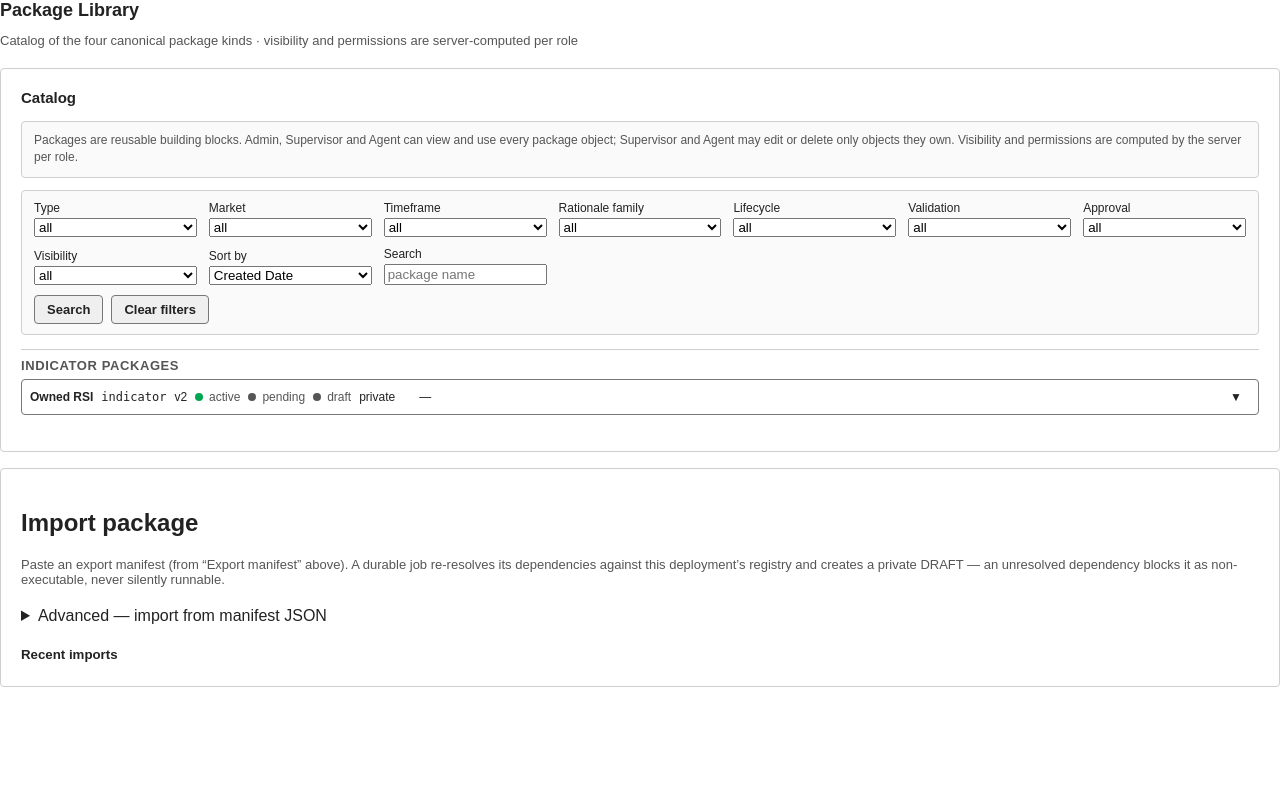
Test case: Package Library — Request Validation (G-04) › offers no action when the server says the package has no validation pipeline
Expected: the text "Owned RSI" is shown, [30,390,93,404]
Click the button named "Detail" at (1236, 397), box [1222,383,1250,411]
(page scrolled)
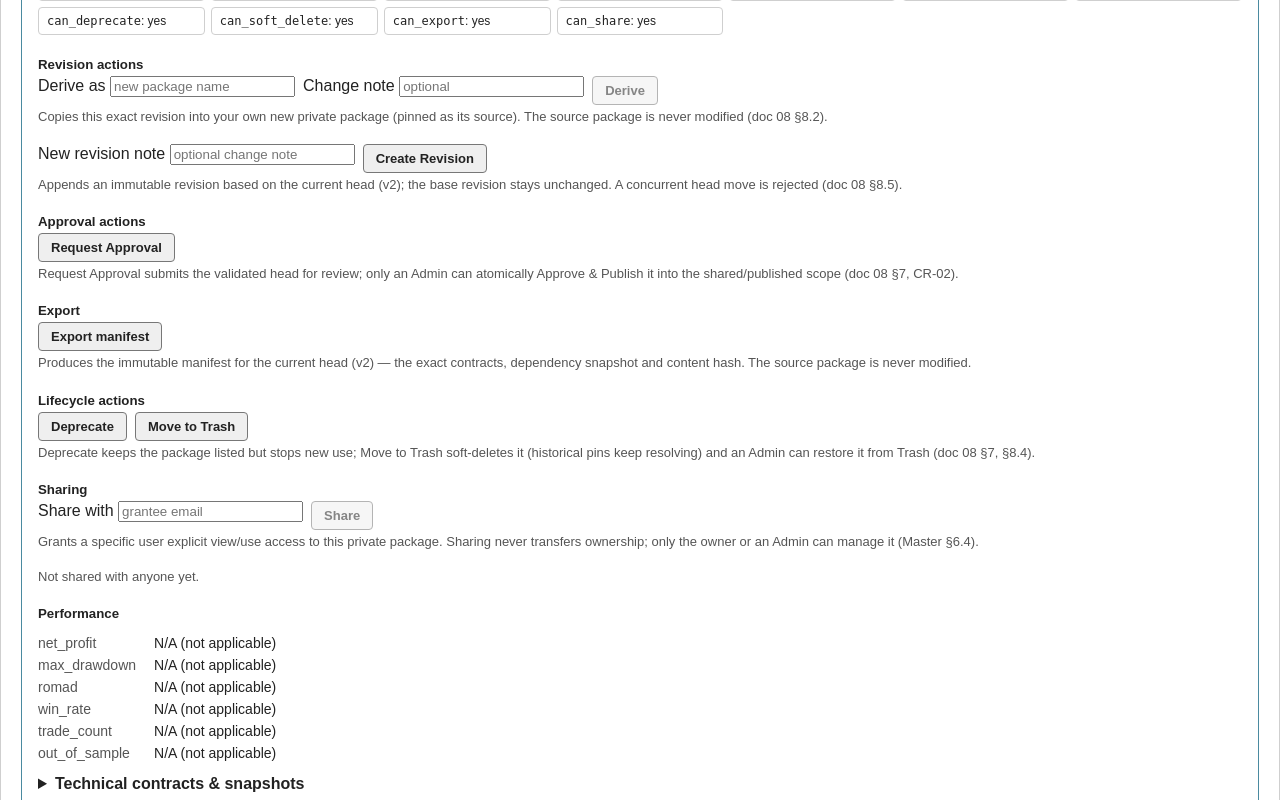
Result: the heading "Lifecycle actions" is shown at [38,393,145,408]
